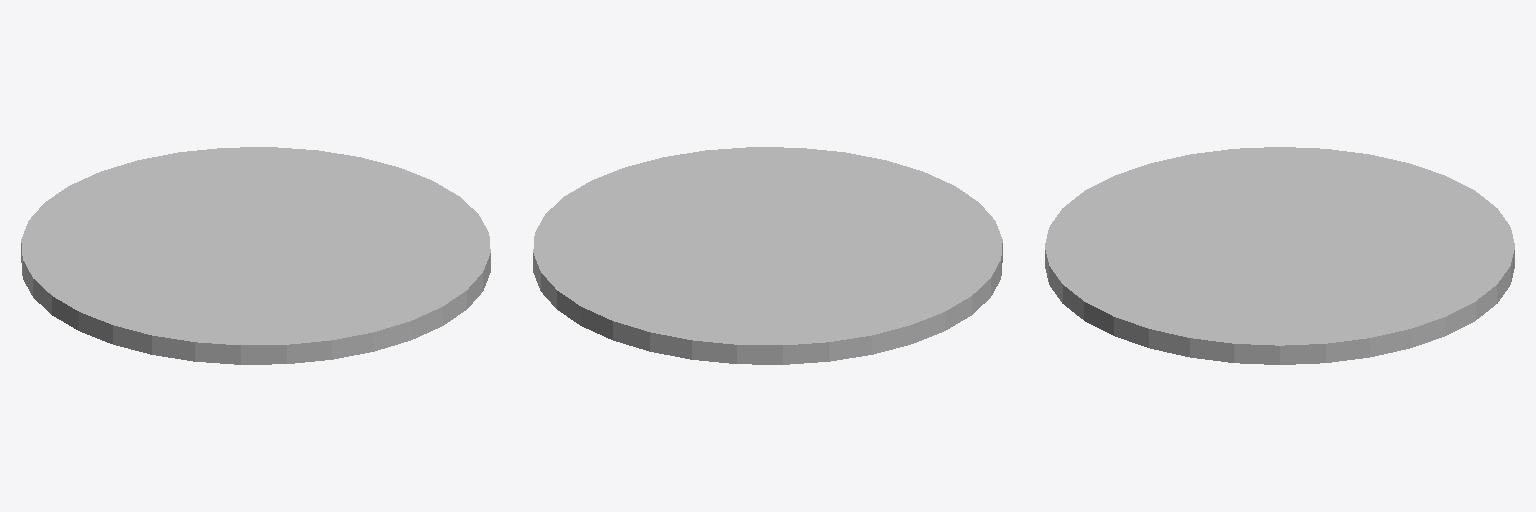
File: ring1.obj
3 renders of one model, left to right at view 1: azimuth 30°, elevation 25°; view 2: azimuth 150°, elevation 25°; view 3: azimuth 270°, elevation 25°, orthographic.
Parts seen in each view (by area): view 1: Cylinder.001; view 2: Cylinder.001; view 3: Cylinder.001.
Boxes of the visible parts, x1,y1,x2,y2 form: Cylinder.001: [21, 147, 490, 364]; Cylinder.001: [533, 147, 1002, 364]; Cylinder.001: [1045, 147, 1514, 364].
Size of the model in its own units: 1.97 by 0.0898 by 1.97.